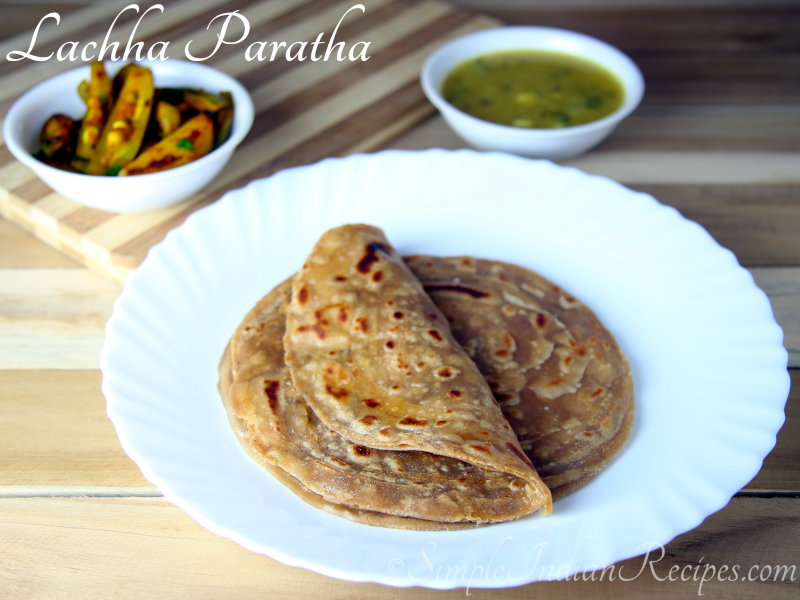aloo_paratha: (215, 220, 632, 517)
